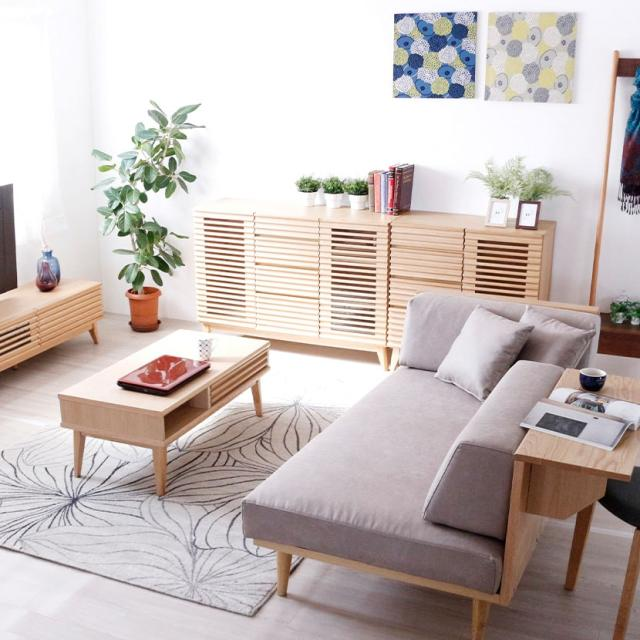natural desk: (52, 327, 268, 490)
natural shelf: (196, 194, 397, 363), (196, 208, 557, 290)
natural sofa: (243, 298, 604, 612)
